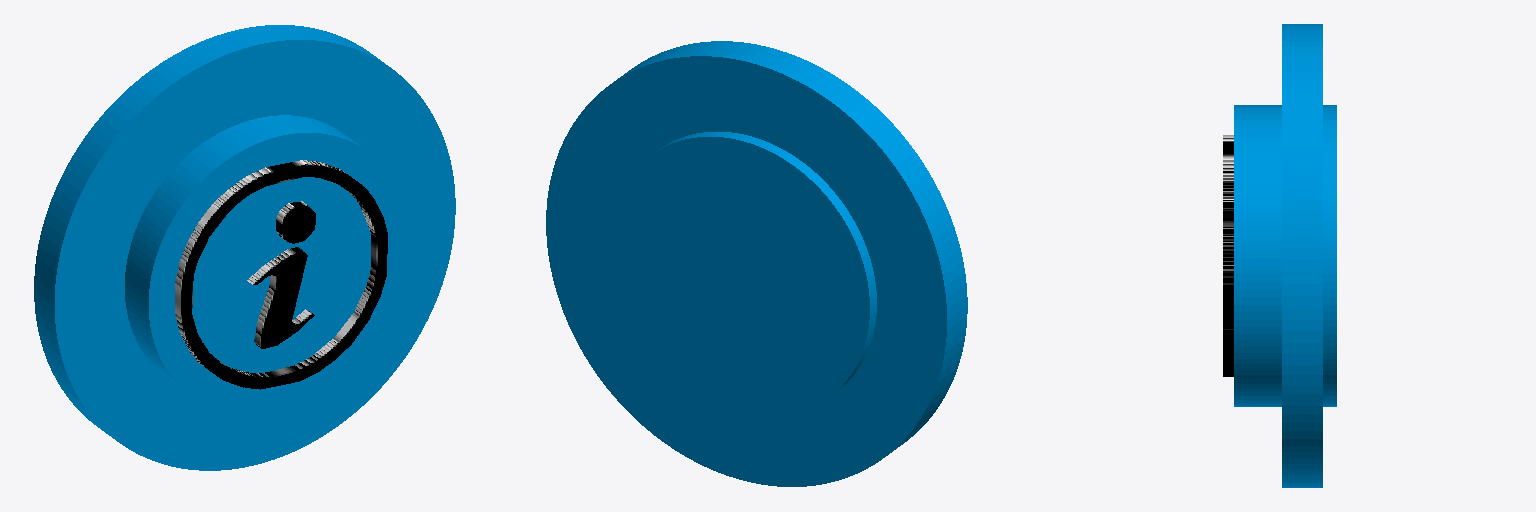
The picture shows the model from 3 angles: view 1: azimuth 30°, elevation 25°; view 2: azimuth 150°, elevation 25°; view 3: azimuth 270°, elevation 25°; orthographic projection.
Parts seen in each view (by area): view 1: Object.1, Object.2, Object.3, Object.4, Object.5; view 2: Object.1, Object.2; view 3: Object.1, Object.2, Object.3.
Part boxes in pixels (x1,y1,x2,y2): Object.1: (34,25,455,470); Object.2: (125,115,408,412); Object.3: (175,160,387,389); Object.4: (247,247,314,348); Object.5: (276,201,315,243); Object.1: (546,41,967,486); Object.2: (609,132,876,416); Object.1: (1282,24,1322,487); Object.2: (1234,105,1336,406); Object.3: (1223,135,1233,376).
Size of the model in its own units: 40 by 40 by 9.79.
Materials: 2 (1 with a texture image).